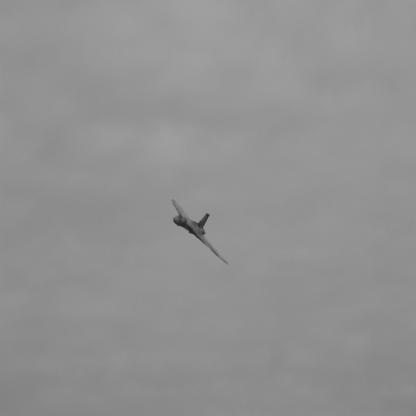Vulcan: (173, 200, 231, 266)
